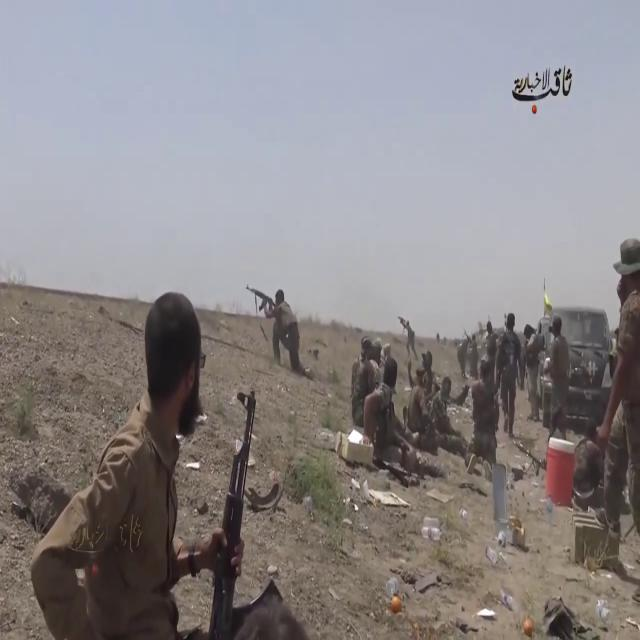long weapon: (200, 362, 267, 636), (242, 277, 277, 321)
